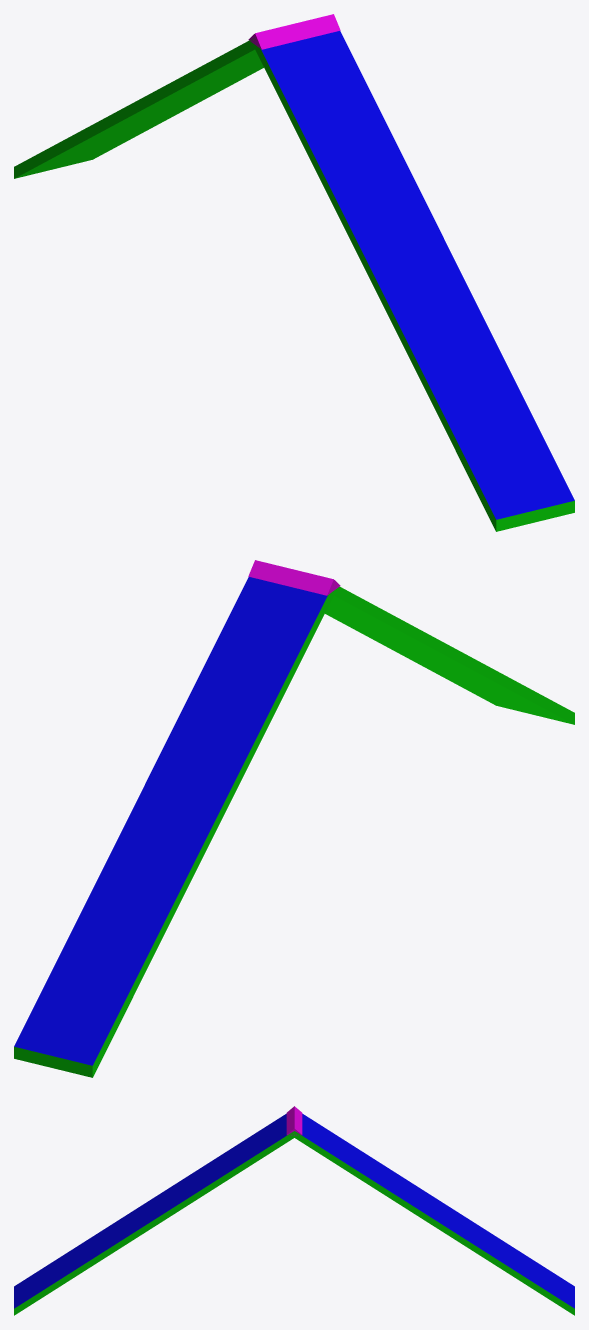
The model's file is roof_gable.glb.
The picture shows the model from 3 angles, top to bottom: view 1: azimuth 30°, elevation 25°; view 2: azimuth 150°, elevation 25°; view 3: azimuth 270°, elevation 25°; orthographic projection. The views are drawn at different scales.
Parts seen in each view (by area): view 1: roof_gable; view 2: roof_gable; view 3: roof_gable.
Part boxes in pixels (box(x1,y1,x2,y2)): roof_gable: box(14, 14, 574, 531); roof_gable: box(14, 560, 574, 1077); roof_gable: box(14, 1106, 574, 1315).
Bounding box in the file's own units: 1 × 3.91 × 10.6.
